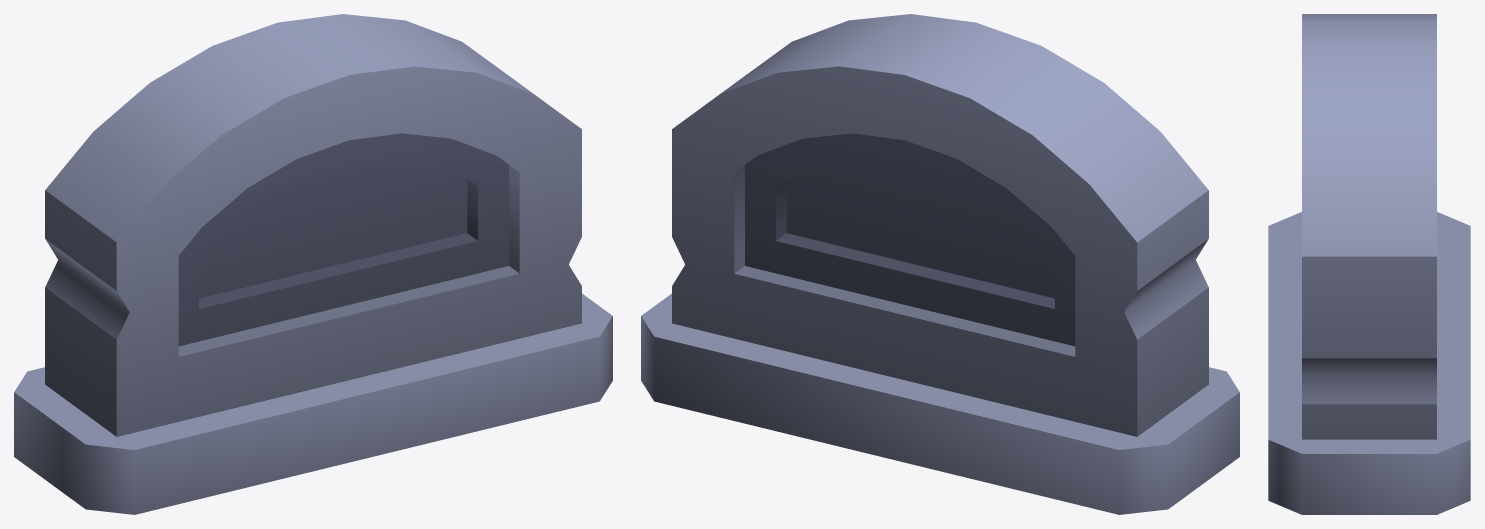
File: K_gravestone-wide.glb
3 renders of one model, left to right at view 1: azimuth 30°, elevation 25°; view 2: azimuth 150°, elevation 25°; view 3: azimuth 270°, elevation 25°, orthographic. The views are drawn at different scales.
Visible parts, largest first — view 1: gravestone-wide; view 2: gravestone-wide; view 3: gravestone-wide.
Part boxes in pixels (x1,y1,x2,y2): gravestone-wide: (14,14,612,514); gravestone-wide: (641,14,1239,514); gravestone-wide: (1268,14,1470,514).
Size of the model in its own units: 0.85 by 0.5703 by 0.3.
